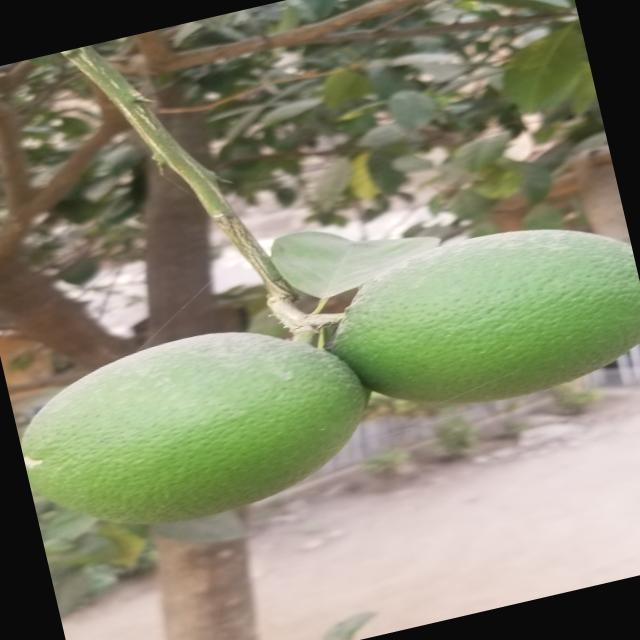agrume: (11, 300, 386, 555), (325, 203, 640, 426)
